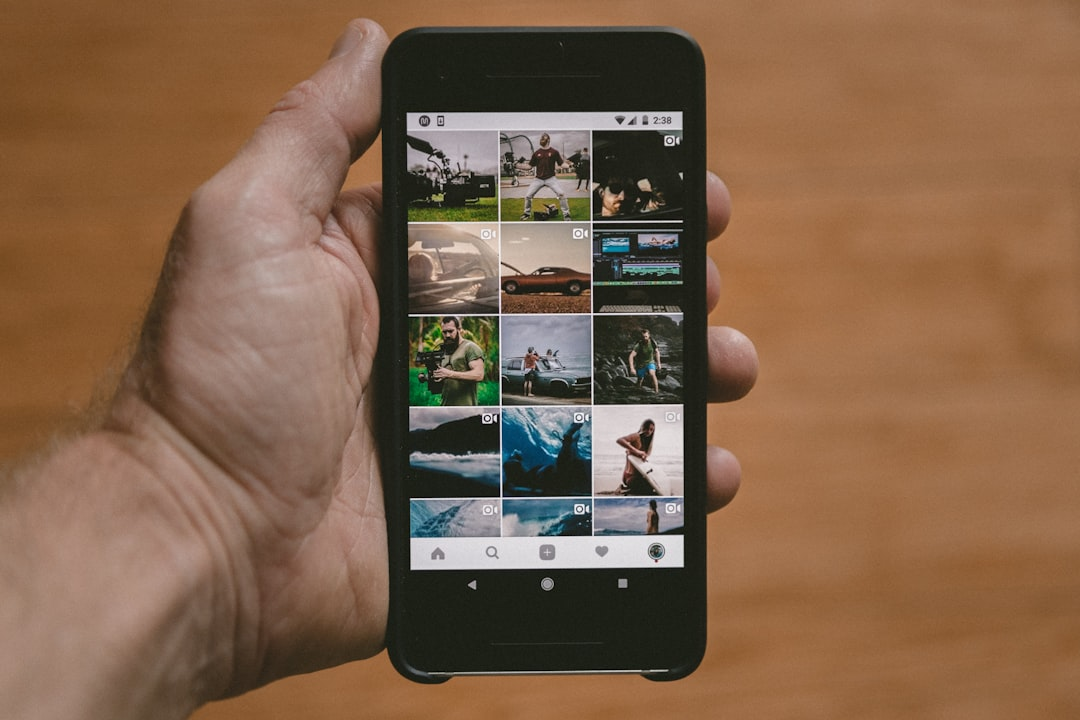phone: (383, 25, 708, 683)
